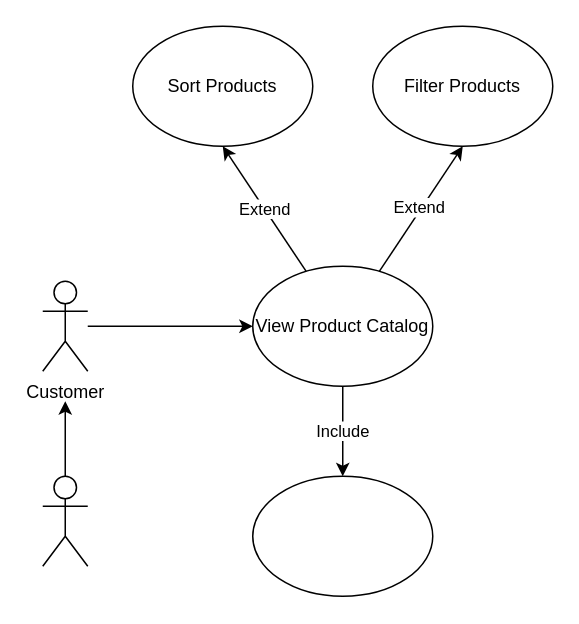
The diagram is 579 pixels wide and 624 high, and some of its shapes have lost their labels. The shapes that lost their labels are listed below. From the top down, each one's centre as x and y in pixels, then its label:
At point 64,520: "Guest".
At point 342,535: "View Product Details".
